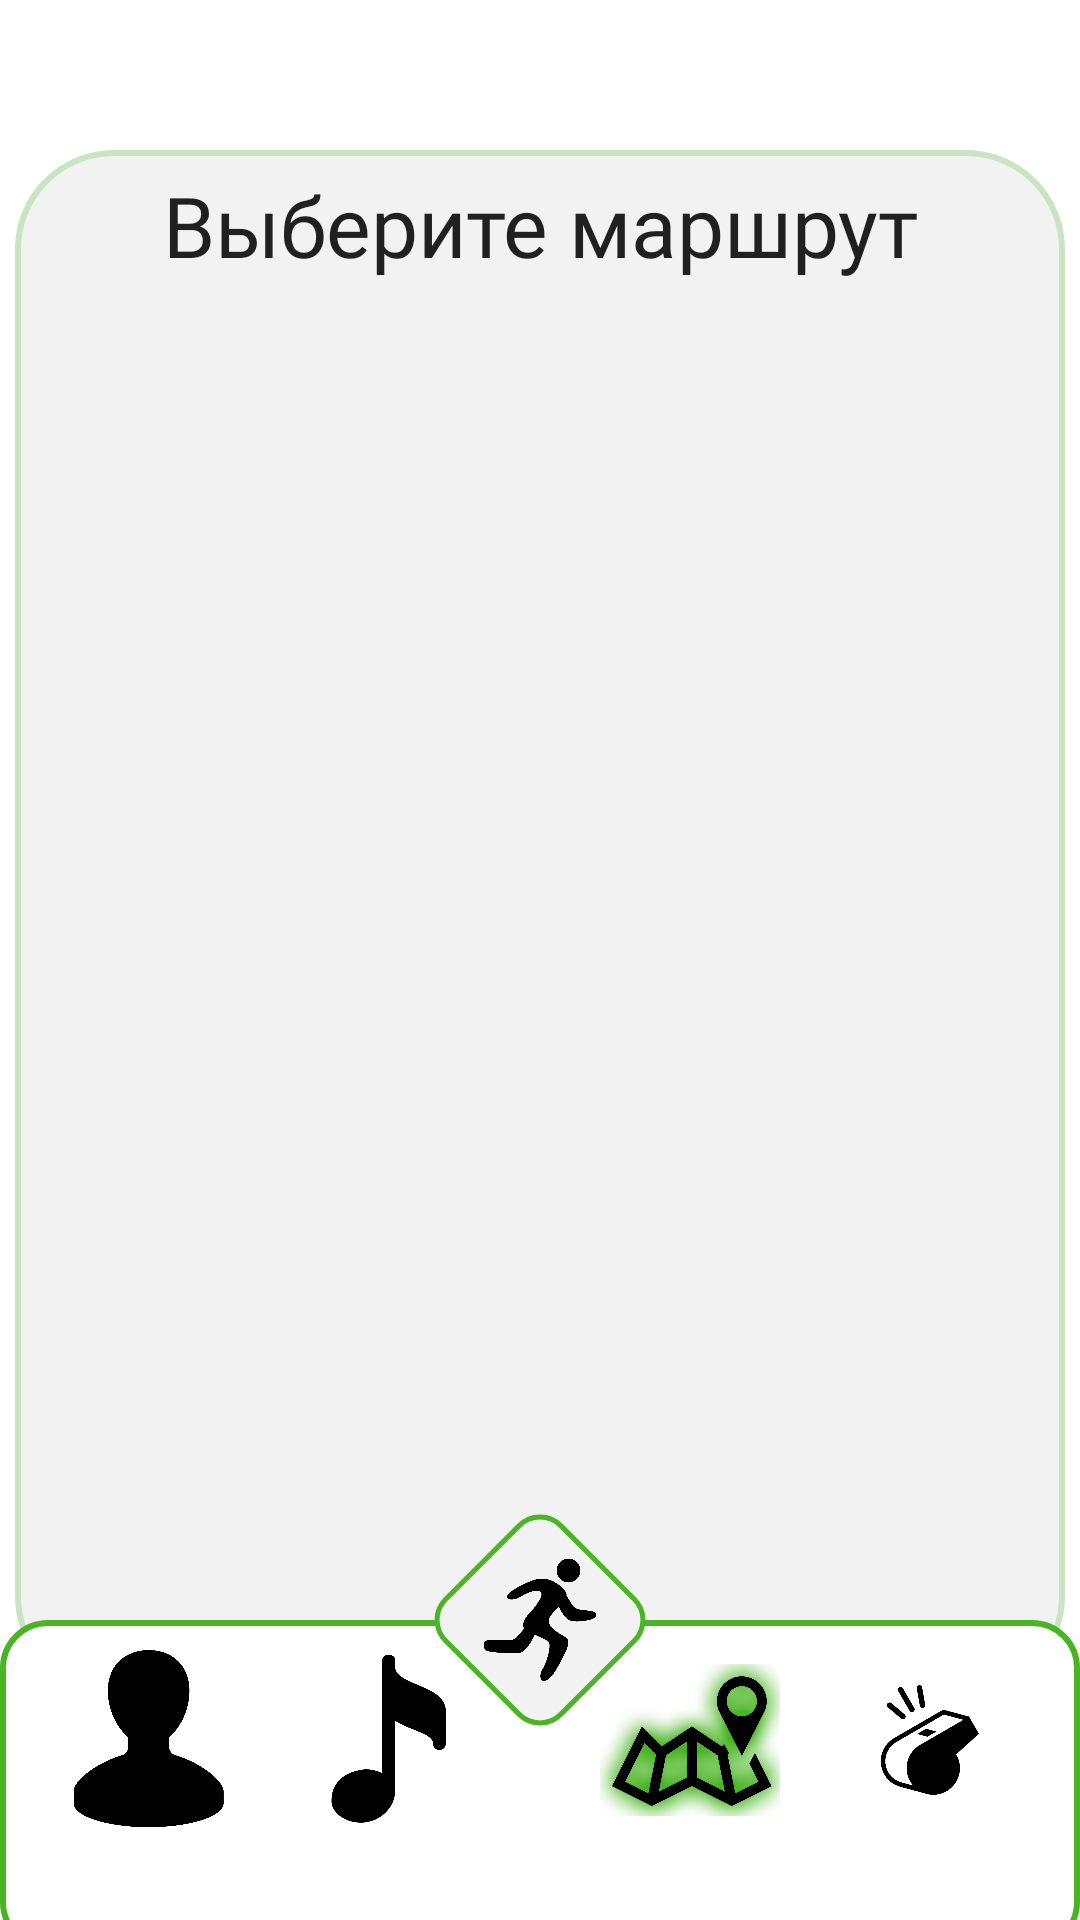

Named icons in this screenshot (1080w x 1920h) and their bounding boxes, (x1, y1, x2, y2):
human: (74, 1650, 224, 1827)
map: (600, 1664, 780, 1816)
note: (331, 1655, 446, 1823)
sport: (420, 1514, 660, 1740)
svistok: (881, 1685, 979, 1795)
